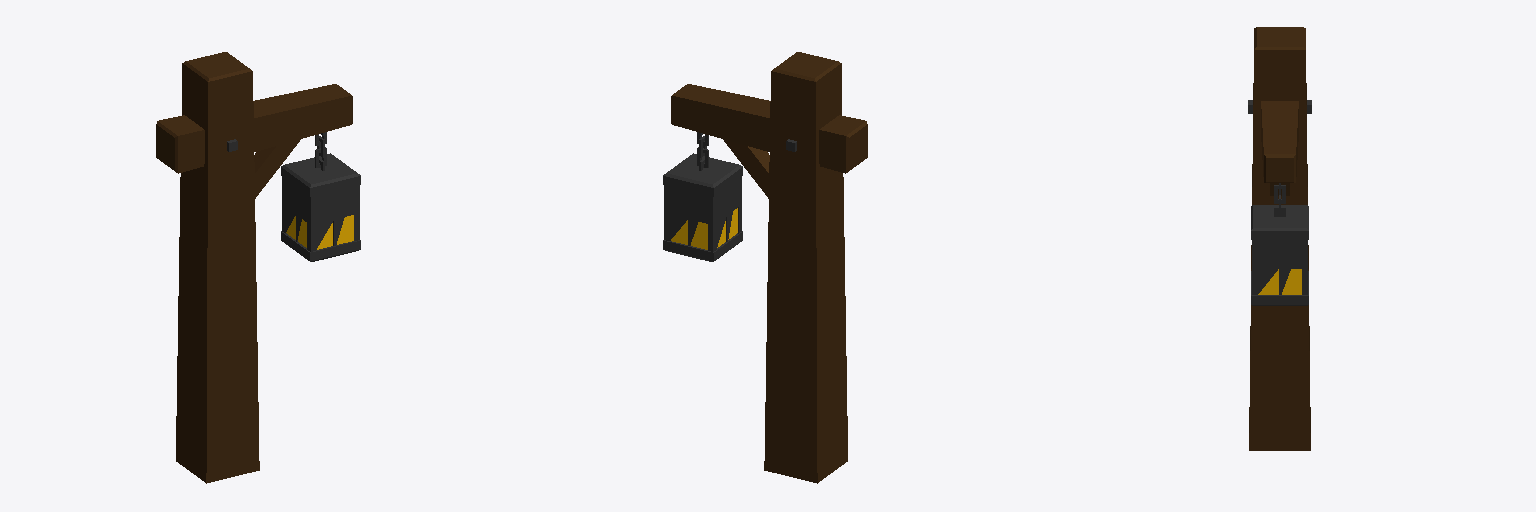
The model's file is ElwFor_Lantern.obj.
3 renders of one model, left to right at view 1: azimuth 30°, elevation 25°; view 2: azimuth 150°, elevation 25°; view 3: azimuth 270°, elevation 25°, orthographic.
Parts seen in each view (by area): view 1: Mesh1 ElwFor_Lantern_C01_1 Model, Mesh3 ElwFor_Lantern_C03_1 ElwFor_Lantern_C02_1 Model; view 2: Mesh1 ElwFor_Lantern_C01_1 Model, Mesh3 ElwFor_Lantern_C03_1 ElwFor_Lantern_C02_1 Model; view 3: Mesh1 ElwFor_Lantern_C01_1 Model, Mesh3 ElwFor_Lantern_C03_1 ElwFor_Lantern_C02_1 Model.
Boxes of the visible parts, box(x1,y1,x2,y2) form: Mesh1 ElwFor_Lantern_C01_1 Model: box(156, 52, 352, 483); Mesh3 ElwFor_Lantern_C03_1 ElwFor_Lantern_C02_1 Model: box(281, 153, 360, 261); Mesh1 ElwFor_Lantern_C01_1 Model: box(671, 52, 867, 483); Mesh3 ElwFor_Lantern_C03_1 ElwFor_Lantern_C02_1 Model: box(663, 153, 742, 261); Mesh1 ElwFor_Lantern_C01_1 Model: box(1248, 27, 1310, 450); Mesh3 ElwFor_Lantern_C03_1 ElwFor_Lantern_C02_1 Model: box(1251, 205, 1308, 305).
Bounding box in the file's own units: 85 × 180 × 25.74.